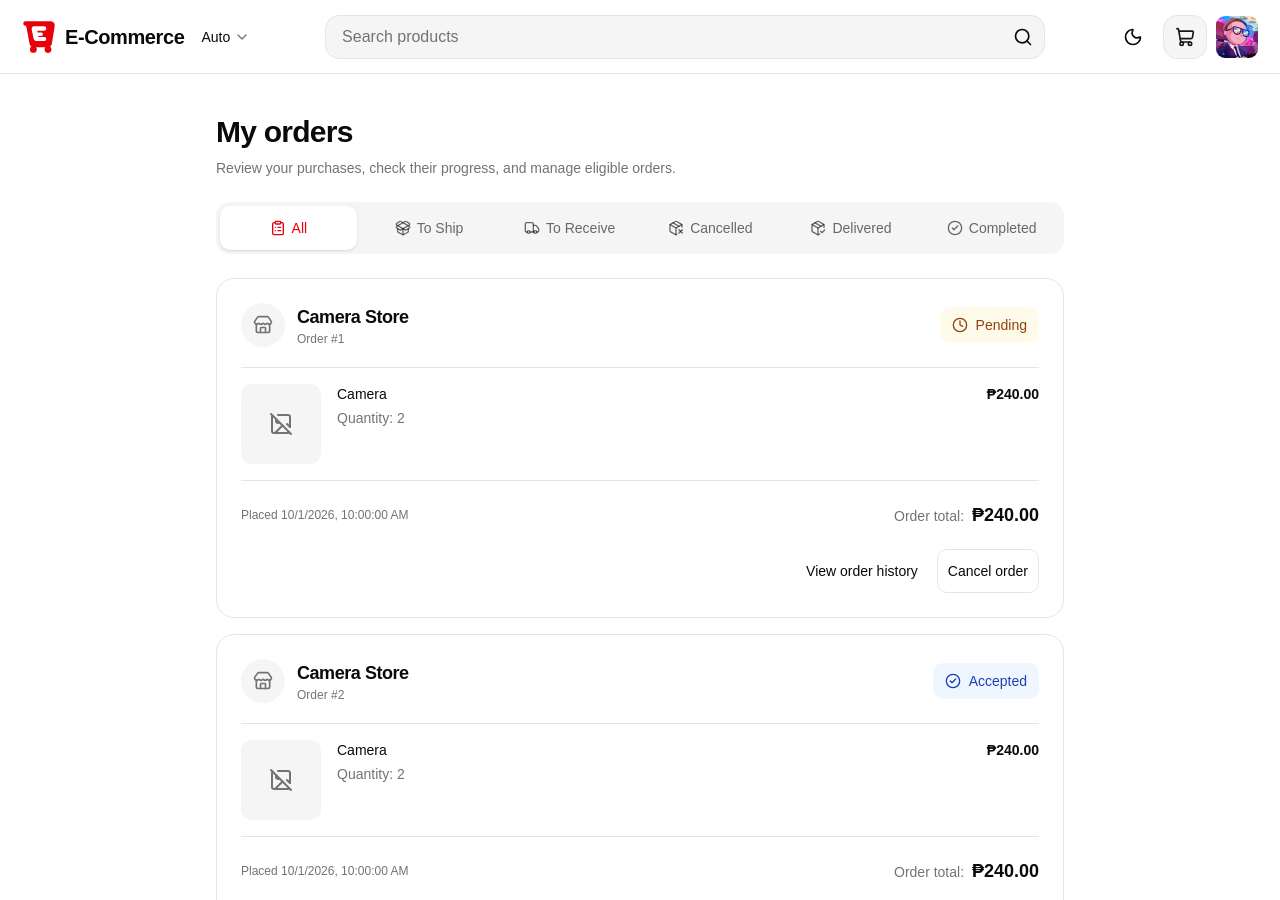
Test case: status conflict stays visible in confirmation
Click the button "Cancel order" at (988, 571), box [937,549,1039,593]
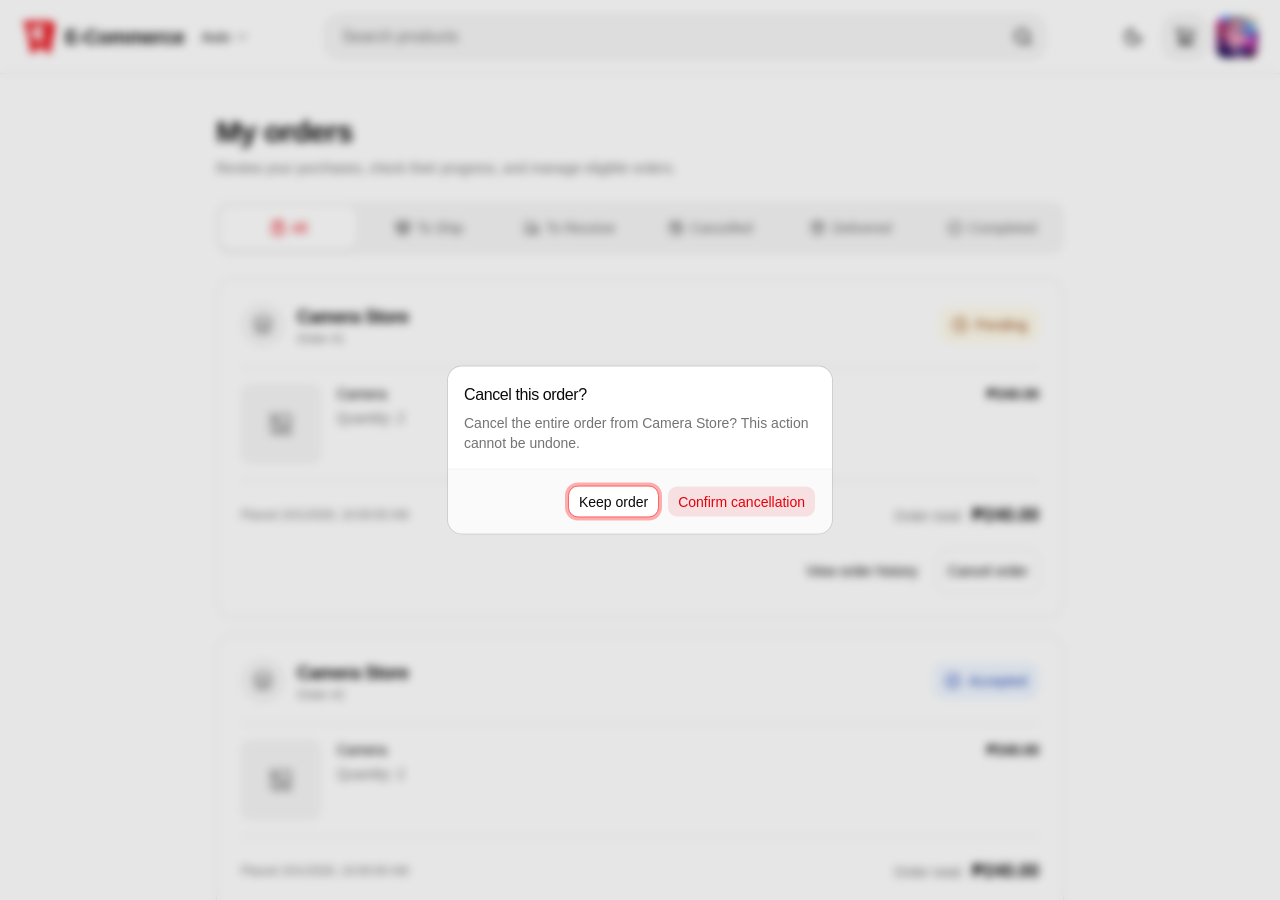
Click the button "Confirm cancellation" at (742, 502), box [667,486,816,518]
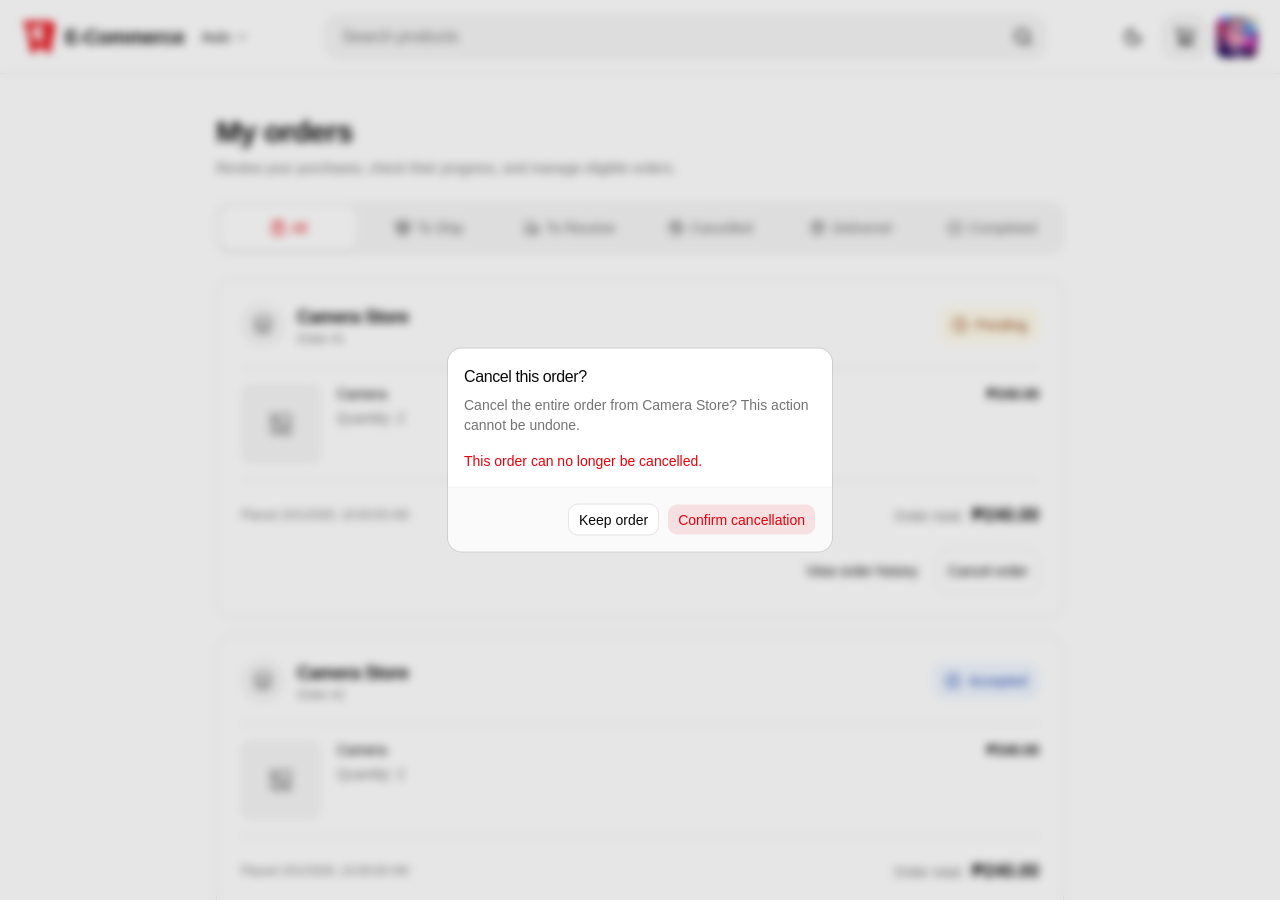
Expected: the message reads "This order can no longer be cancelled.", [464,452,702,468]
